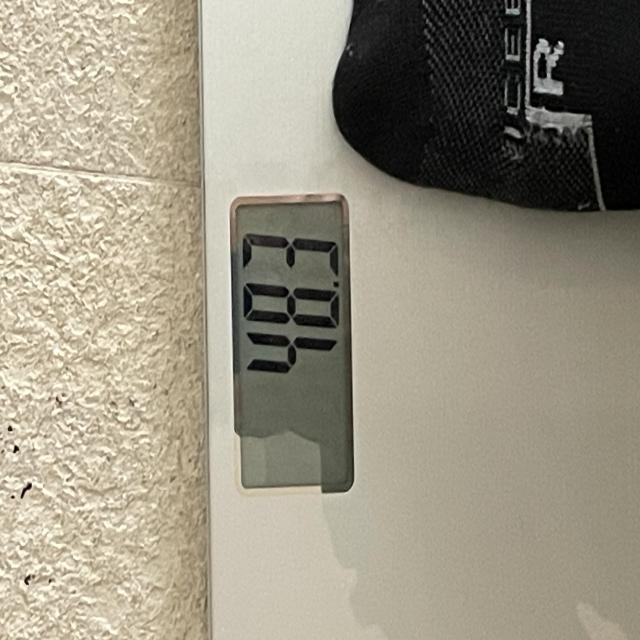ws: (229, 193, 355, 497)
